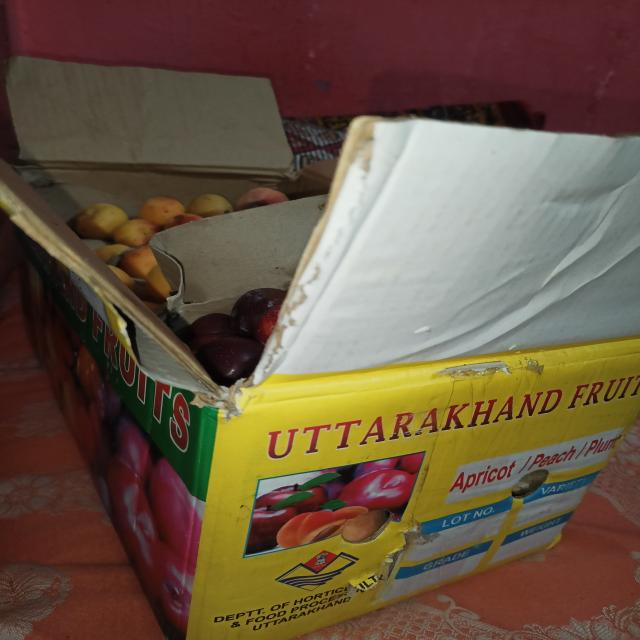cardboard_box: (0, 15, 640, 636)
